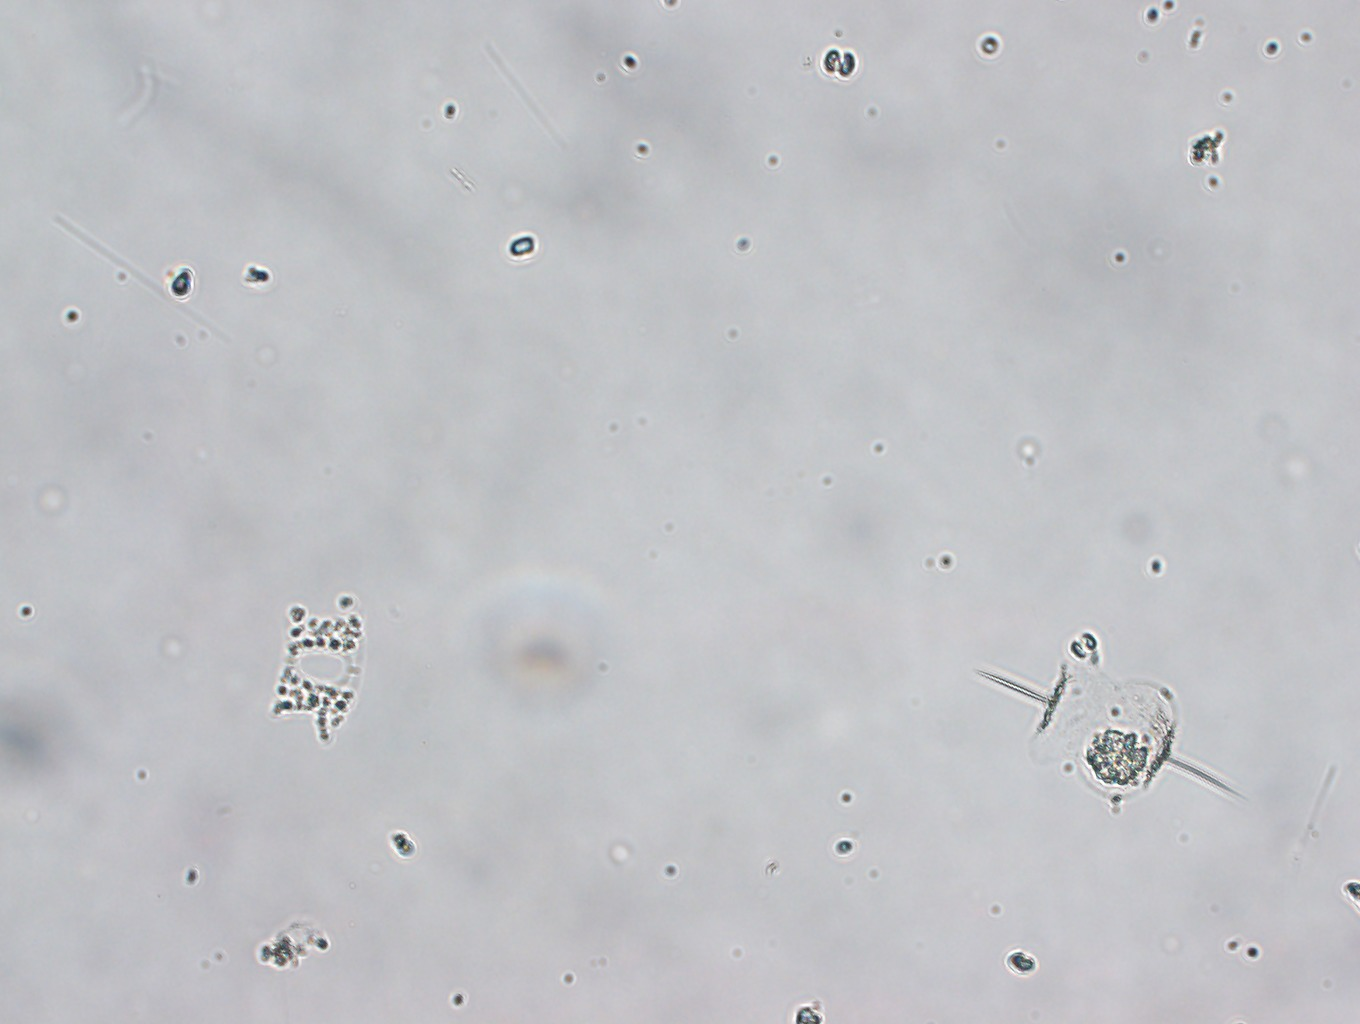ditylum: (953, 643, 1244, 816)
eucampia: (257, 587, 372, 748)
